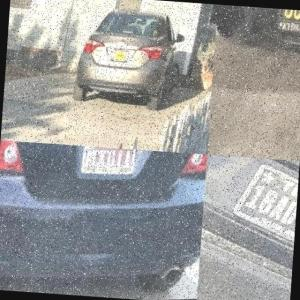Plate: (231, 166, 298, 246), (79, 145, 136, 178), (111, 53, 129, 66)
